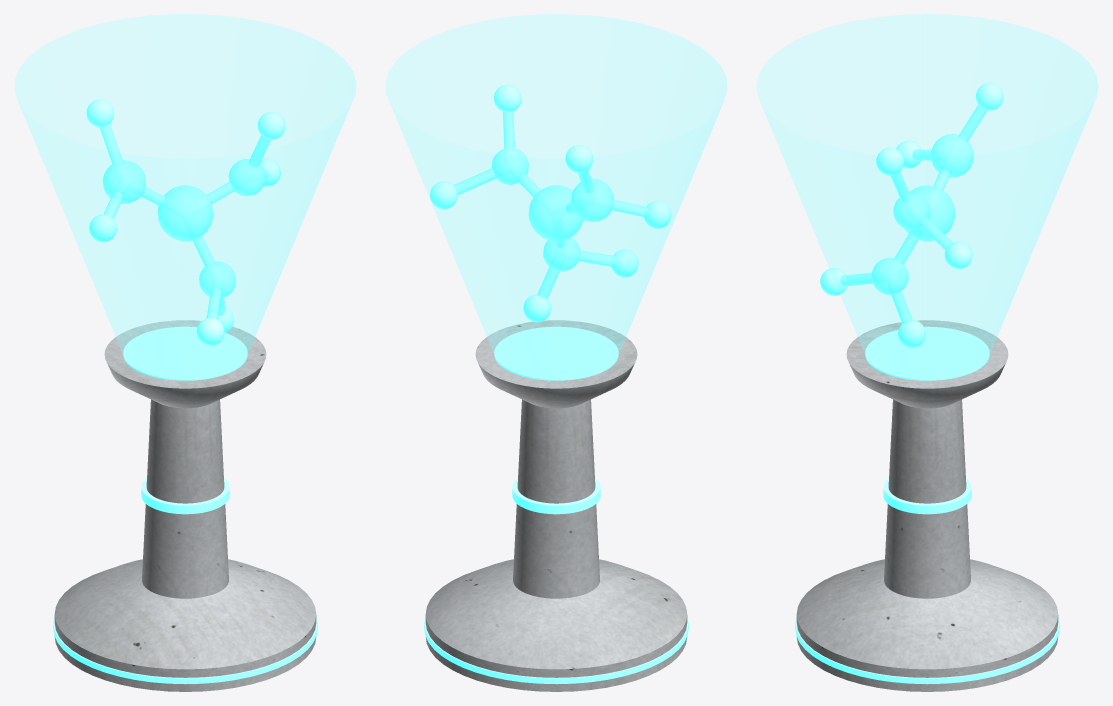
File: molecule-hologram-projector.glb
3 views of the same model, side by side, from view 1: azimuth 30°, elevation 25°; view 2: azimuth 150°, elevation 25°; view 3: azimuth 270°, elevation 25° (orthographic).
Parts seen in each view (by area): view 1: Molecule_Hologram_Projector, Molecule; view 2: Molecule_Hologram_Projector, Molecule; view 3: Molecule_Hologram_Projector, Molecule.
Boxes of the visible parts, x1,y1,x2,y2 form: Molecule_Hologram_Projector: (14, 14, 355, 691); Molecule: (86, 99, 285, 345); Molecule_Hologram_Projector: (386, 14, 727, 691); Molecule: (430, 84, 671, 322); Molecule_Hologram_Projector: (756, 14, 1098, 691); Molecule: (820, 82, 1003, 347).
Bounding box in the file's own units: 1.1 × 1.95 × 1.1.
4 materials, 1 textured.
